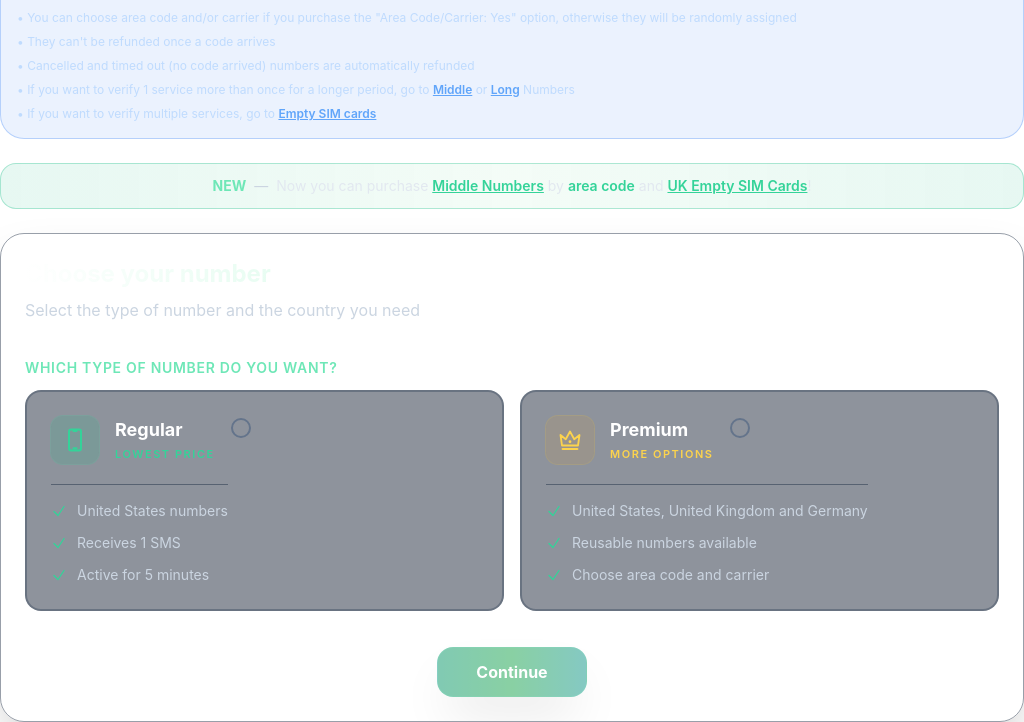
it: choosing the type of number › switching to regular after picking another premium country goes back to the United States
(page scrolled)
Step 1. Click the radio button that starts with "Premium" → coordinates (760, 500), box [520,390,999,611]
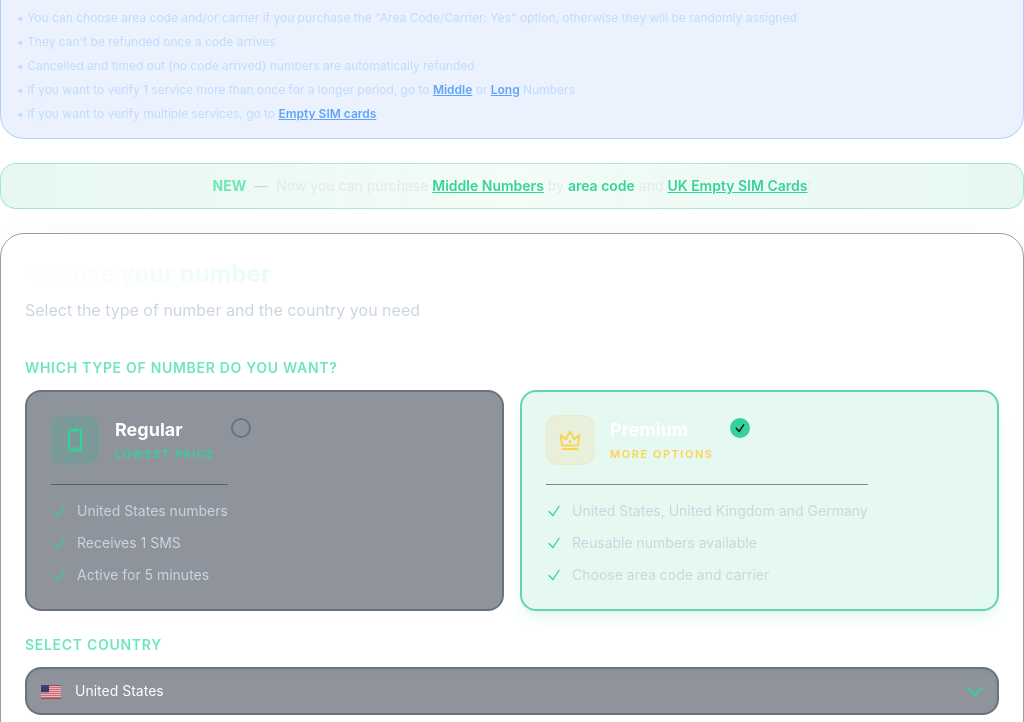
Step 2. Click the text "United States" → coordinates (119, 691), box [75,681,164,701]
(page scrolled)
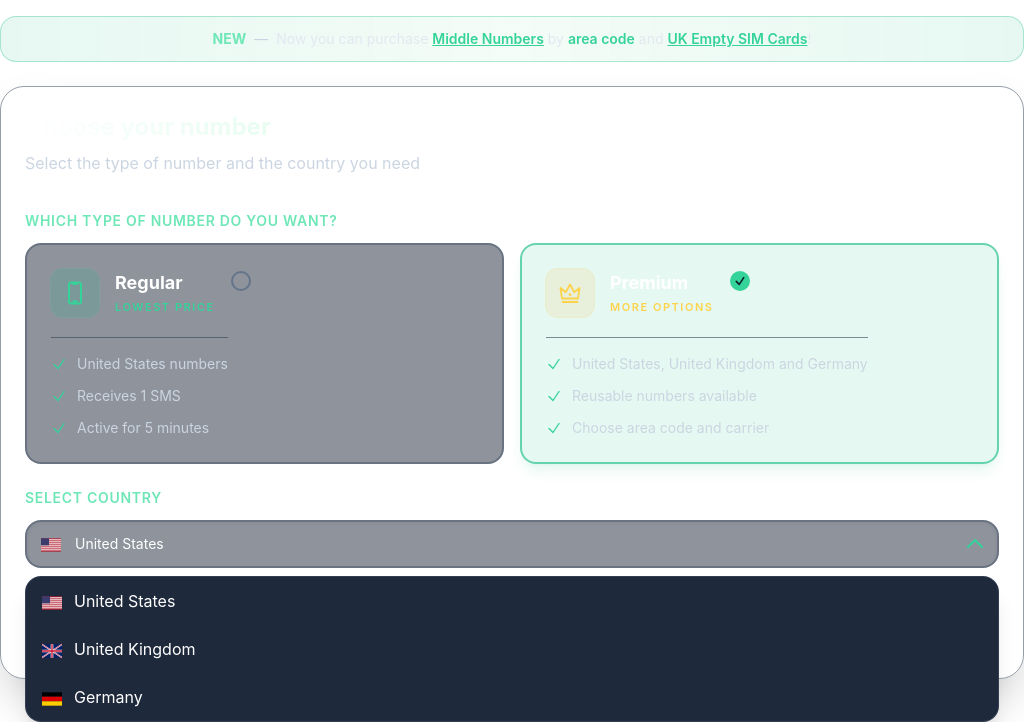
Step 3. Click the text "Germany" → coordinates (108, 697), box [74,685,143,709]
(page scrolled)
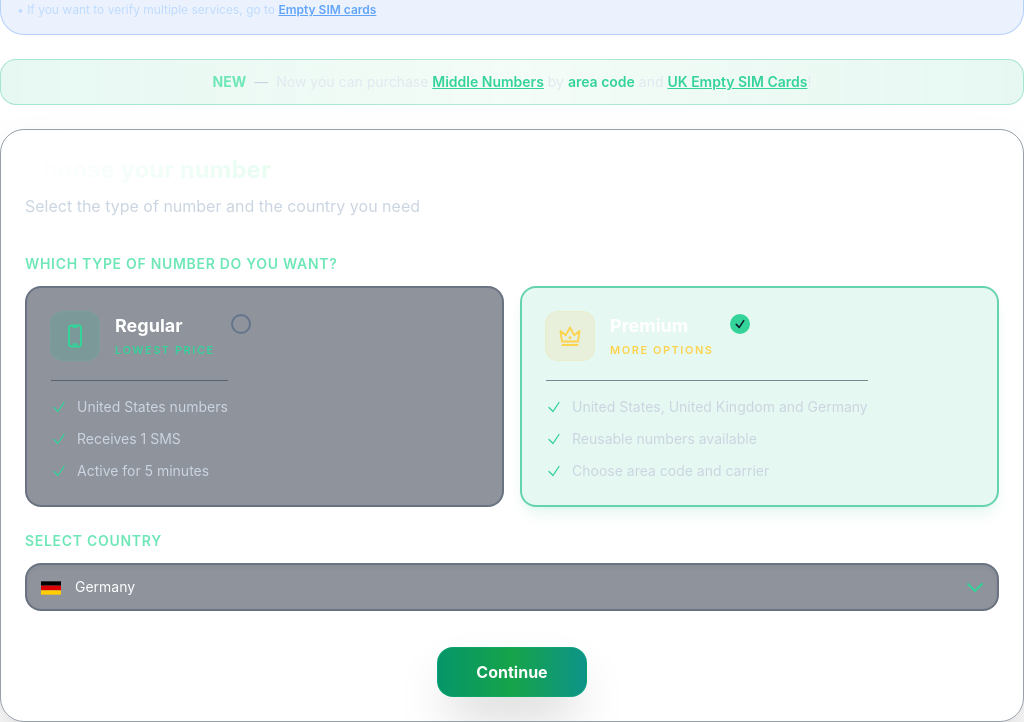
Step 4. Click the radio button labelled "Regular" → coordinates (75, 336), box [25,286,504,507]
(page scrolled)
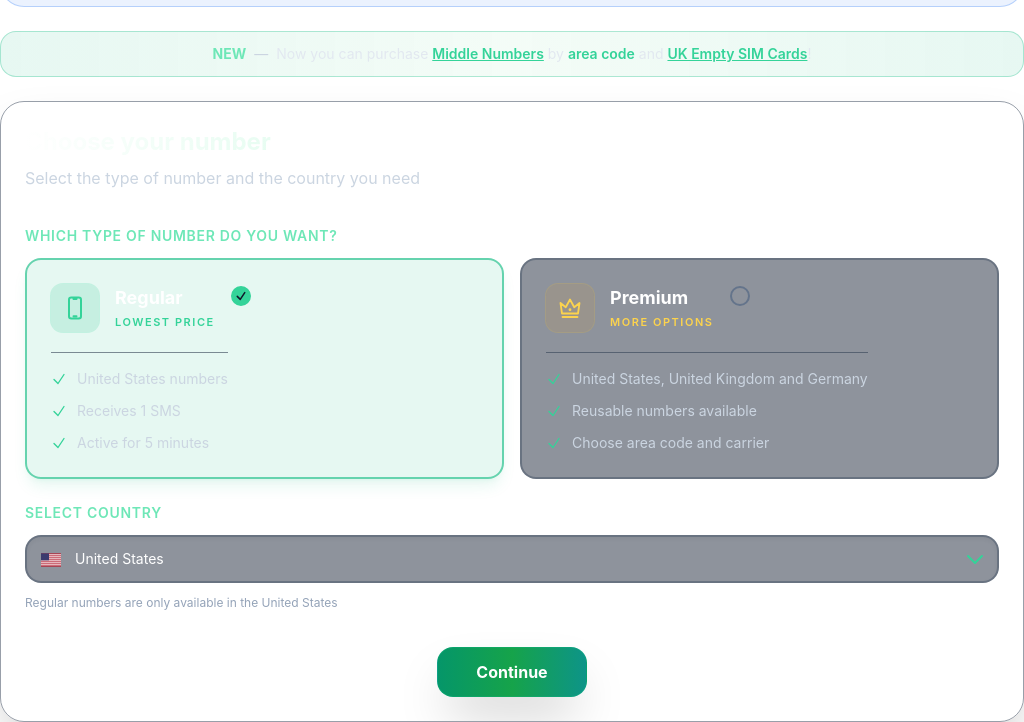
expect the text "United States" is shown: met, box [75,549,164,569]
